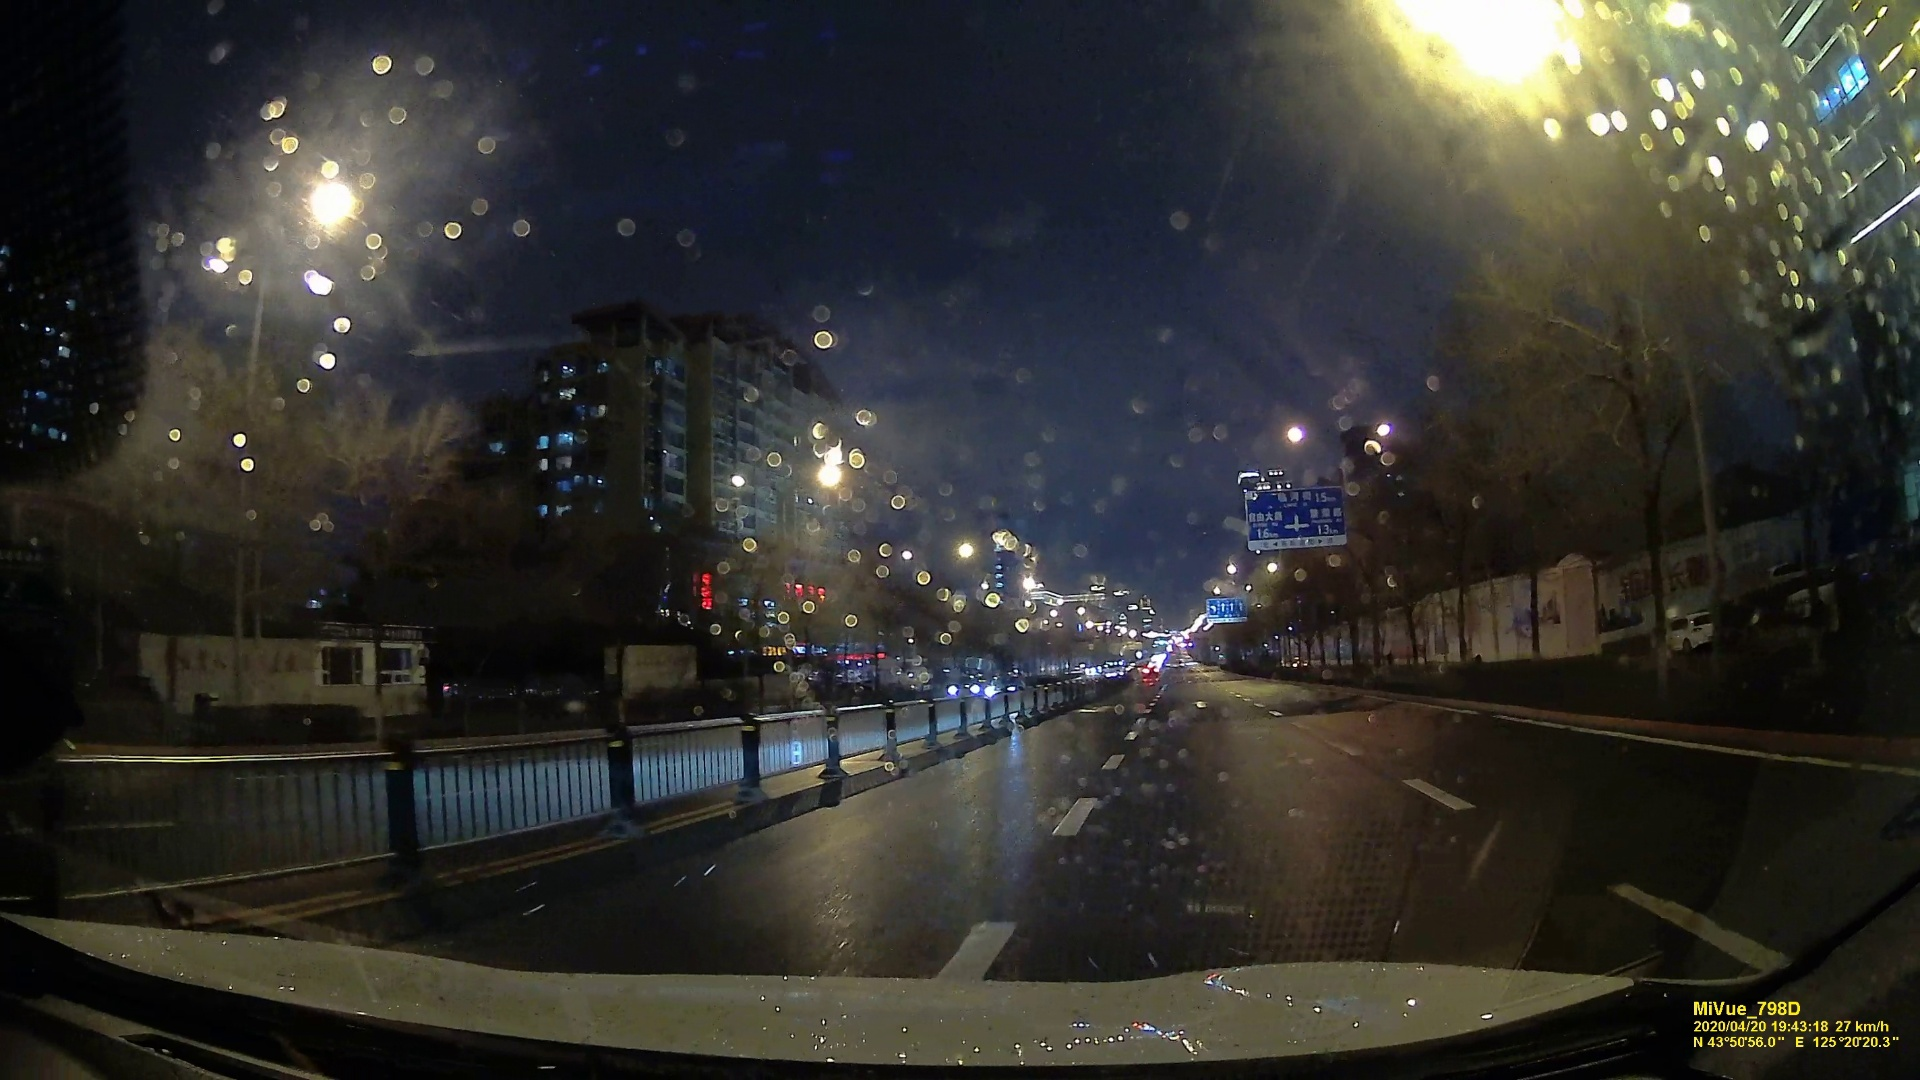traffic_sign: (1245, 489, 1342, 547), (1205, 597, 1244, 620)
